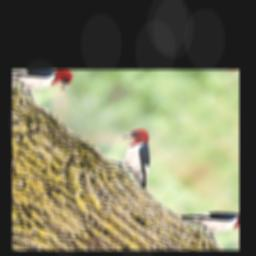Woodpecker: (99, 123, 182, 189)
